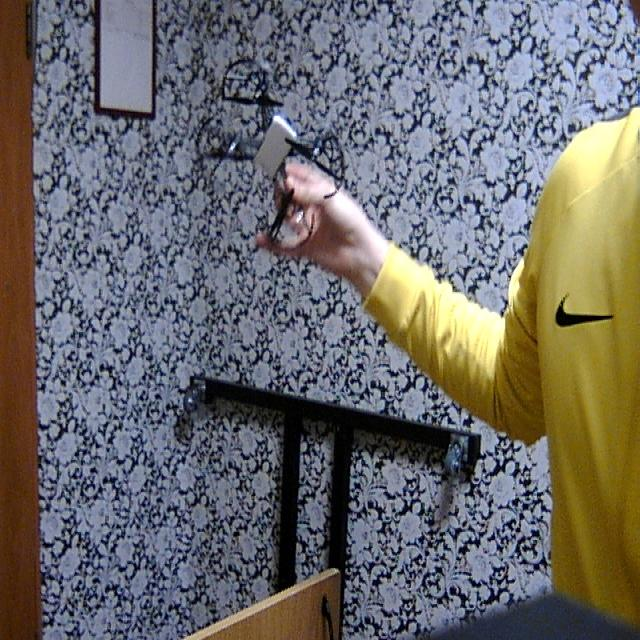drone: (176, 42, 356, 256)
